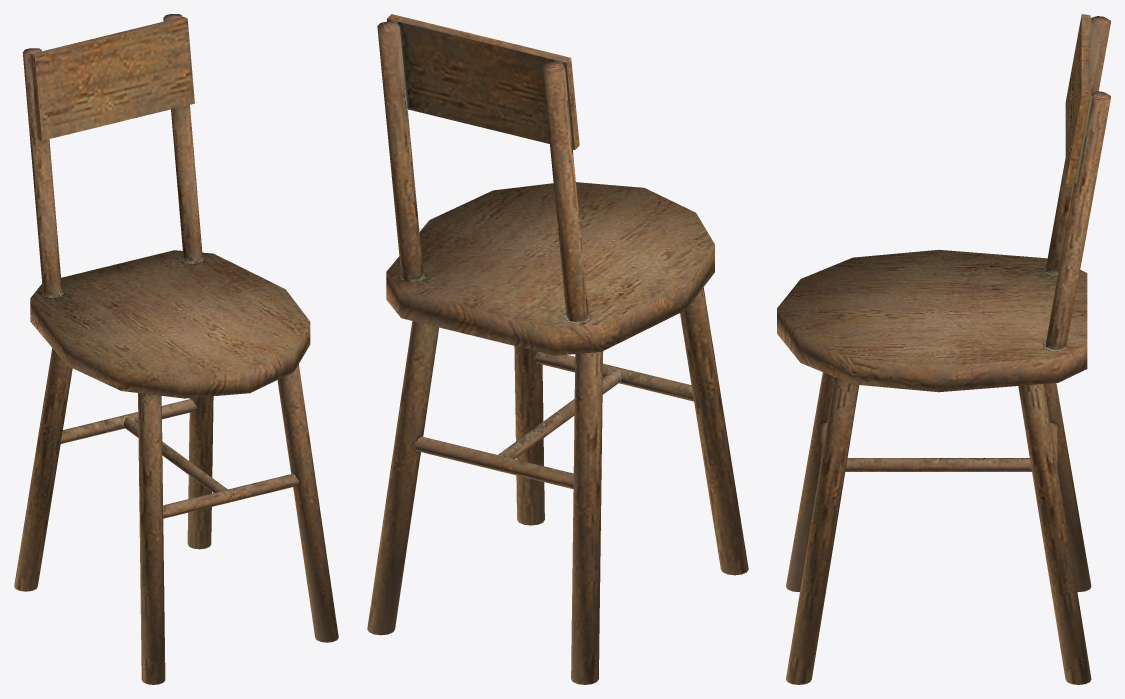
Rendered from psx_wooden_chair.glb.
The picture shows the model from 3 angles, left to right: view 1: azimuth 30°, elevation 25°; view 2: azimuth 150°, elevation 25°; view 3: azimuth 270°, elevation 25°; orthographic projection. The views are drawn at different scales.
Parts seen in each view (by area): view 1: SM_Wooden_Chair; view 2: SM_Wooden_Chair; view 3: SM_Wooden_Chair.
Boxes of the visible parts, box(x1,y1,x2,y2) form: SM_Wooden_Chair: box(14, 14, 338, 684); SM_Wooden_Chair: box(367, 14, 748, 684); SM_Wooden_Chair: box(777, 14, 1110, 684).
Bounding box in the file's own units: 0.4639 × 1.07 × 0.5602.
1 material, 1 textured.
